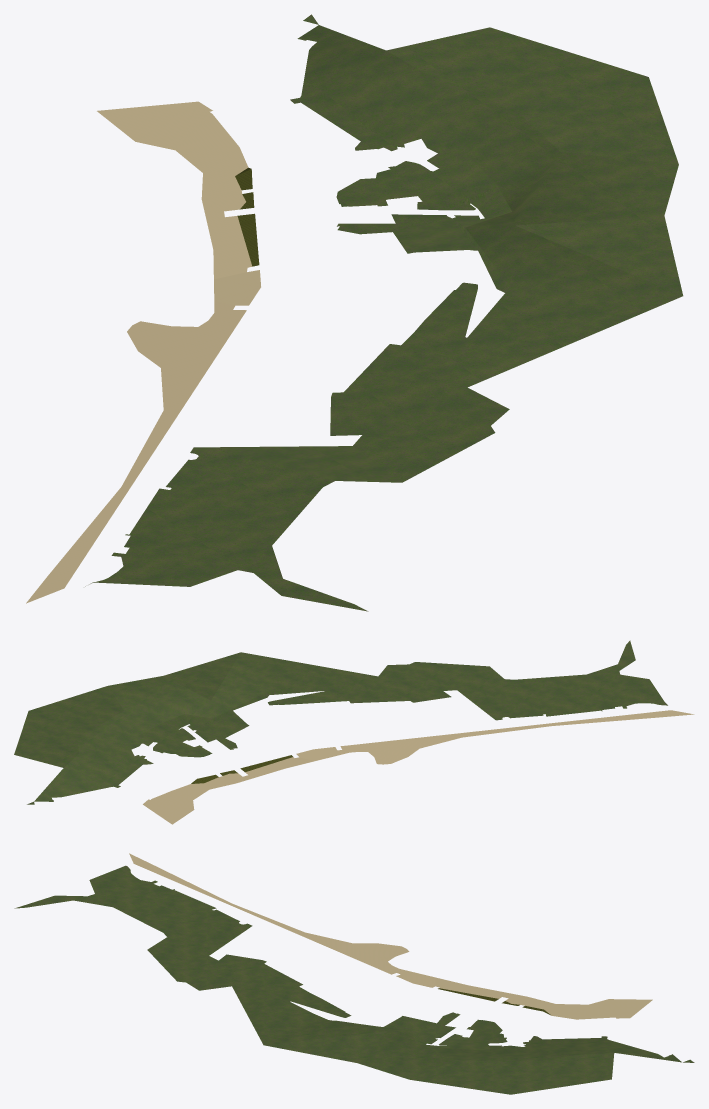
File: terrenoXXI-finallambert.dae
The picture shows the model from 3 angles, top to bottom: view 1: azimuth 30°, elevation 25°; view 2: azimuth 150°, elevation 25°; view 3: azimuth 270°, elevation 25°; orthographic projection. The views are drawn at different scales.
Parts seen in each view (by area): view 1: polySurface12615, polySurface12614, polySurface12599, polySurface12613, polySurface12612; view 2: polySurface12615, polySurface12614, polySurface12599, polySurface12613, polySurface12612; view 3: polySurface12615, polySurface12614, polySurface12599, polySurface12613, polySurface12612.
Part boxes in pixels (x1,y1,x2,y2): polySurface12615: (85, 155, 523, 611); polySurface12614: (290, 25, 682, 387); polySurface12599: (26, 101, 260, 603); polySurface12613: (386, 27, 678, 164); polySurface12612: (516, 216, 683, 295); polySurface12615: (138, 640, 667, 757); polySurface12614: (34, 652, 377, 801); polySurface12599: (143, 710, 694, 824); polySurface12613: (14, 686, 123, 767); polySurface12612: (164, 652, 240, 700); polySurface12615: (14, 865, 507, 1050); polySurface12614: (232, 986, 681, 1079); polySurface12599: (129, 853, 652, 1019); polySurface12613: (410, 1053, 614, 1094); polySurface12612: (264, 1031, 386, 1062).
Size of the model in its own units: 817 by 24.06 by 916.
3 materials, 3 textured.
